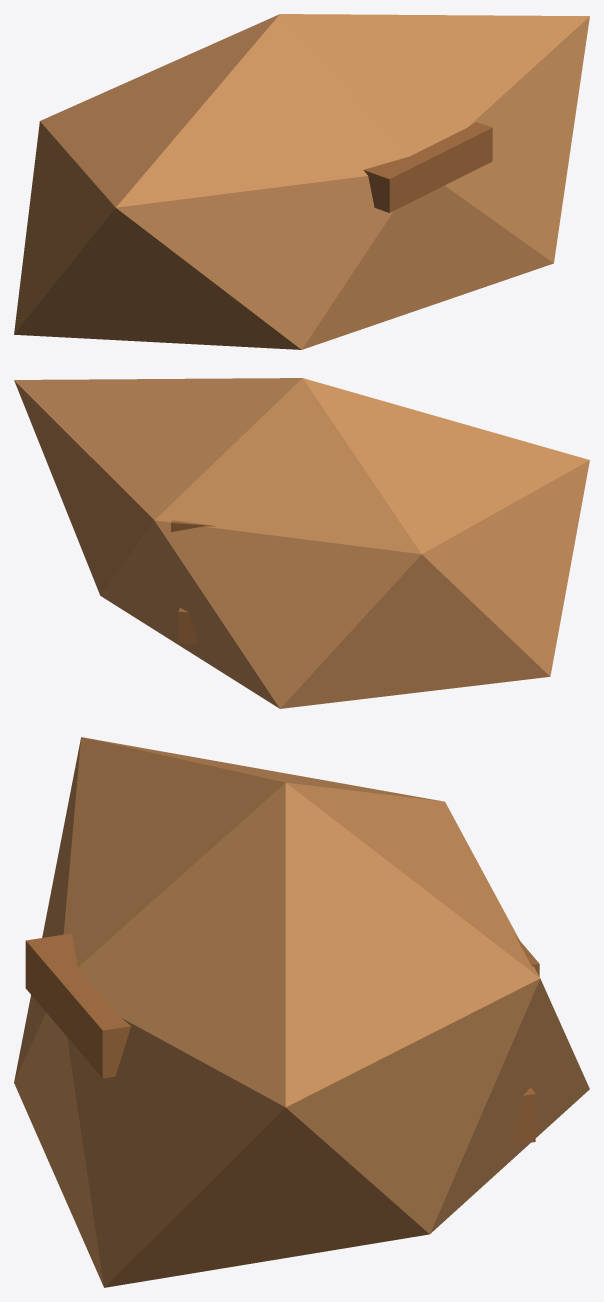
The model's file is klippa_3.glb.
The picture shows the model from 3 angles, top to bottom: view 1: azimuth 30°, elevation 25°; view 2: azimuth 150°, elevation 25°; view 3: azimuth 270°, elevation 25°; orthographic projection. The views are drawn at different scales.
Visible parts, largest first — view 1: klippa_3; view 2: klippa_3; view 3: klippa_3.
Boxes of the visible parts, box(x1,y1,x2,y2) form: klippa_3: box(14, 14, 589, 349); klippa_3: box(14, 378, 589, 708); klippa_3: box(14, 737, 589, 1287).
Bounding box in the file's own units: 4.45 × 2.43 × 2.72.
